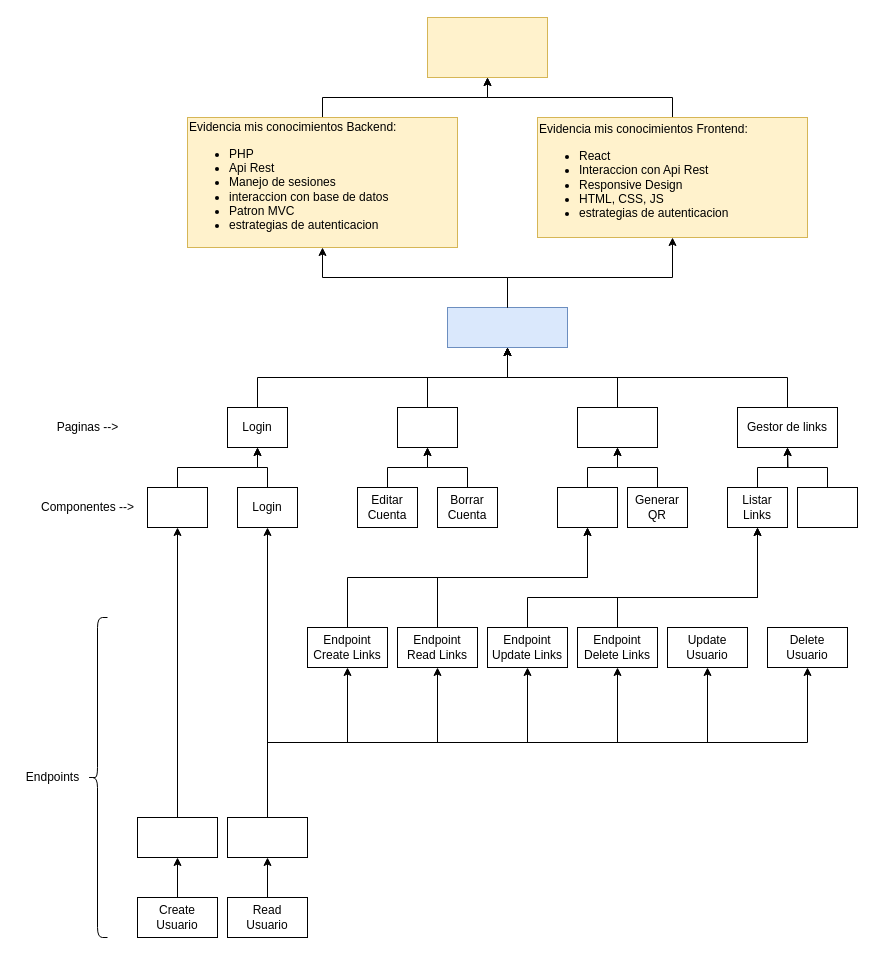
Image size: 875x955. Some labels were removed from this diagram. The centre of each missing label's shape, as x and y in pixels:
Acortador: pixel 617 427
ACORTADOR DE LINKS: pixel 507 327
Cuenta: pixel 427 427
Endpoint Login: pixel 267 837
Endpoint Register: pixel 177 837
Generar Link: pixel 587 507
Mejora mi empleabilidad como Full-stack: pixel 487 47
Mostrar QR: pixel 827 507
Register: pixel 177 507
